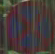No Stopping: (6, 0, 54, 49)
